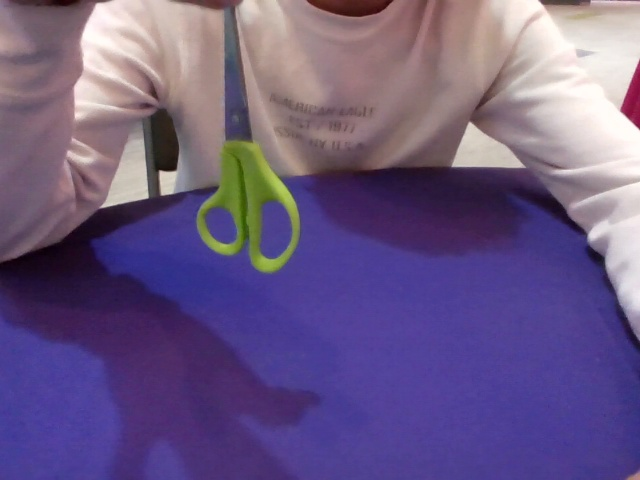tijeras: (196, 5, 301, 274)
